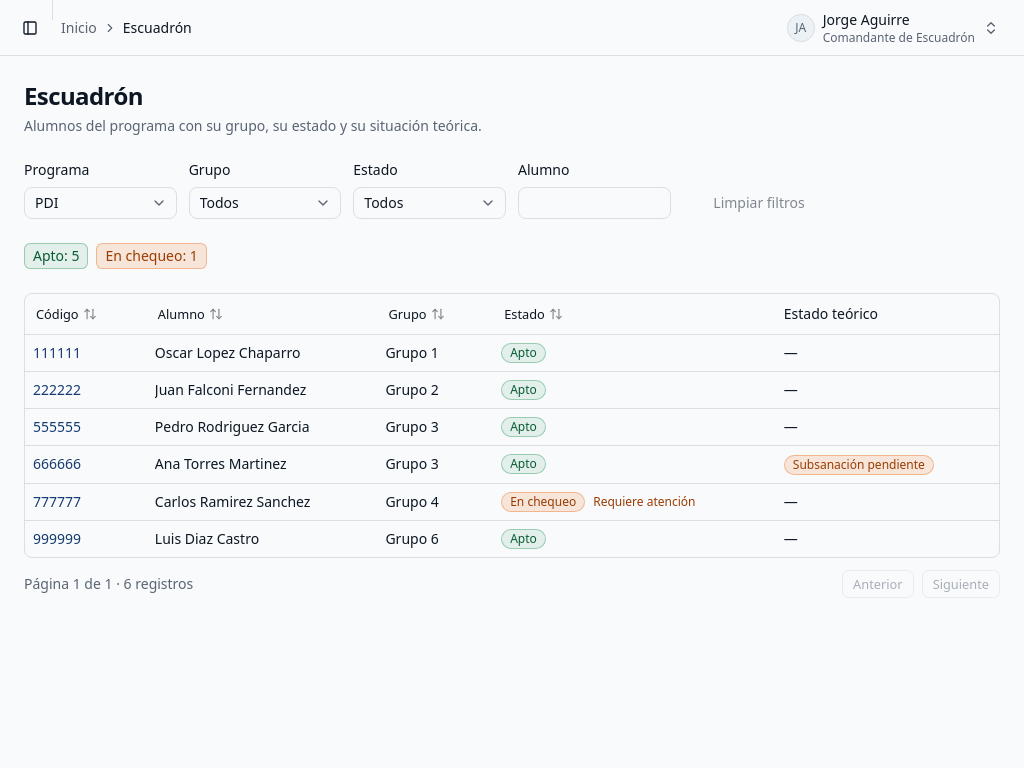
Test: Escuadrón: estado y situación teórica › CA-SEG-06 el encabezado resume cuántos alumnos hay en cada estado de la lista
Expected: the heading "Escuadrón" is shown, [24,79,143,112]
Expected: the table named "Alumnos del escuadrón" is shown, [25,294,999,557]
Select "Grupo 4" in the dropdown labelled "Grupo": (265, 203) [189,187,341,219]
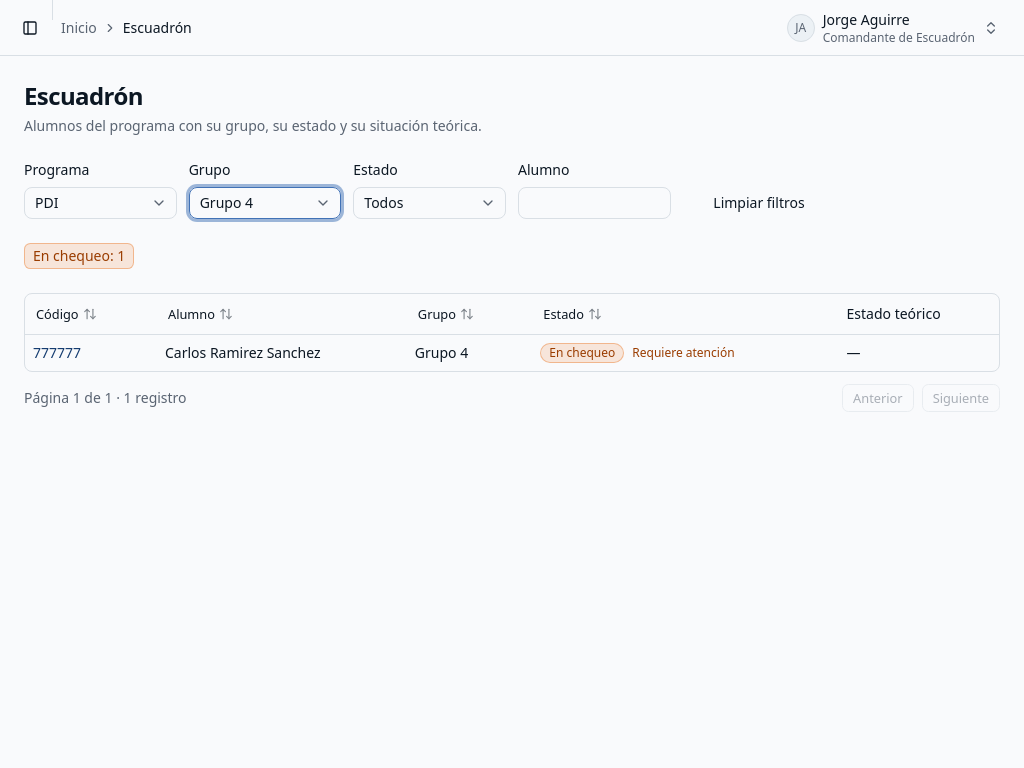
Expected: the text "En chequeo: 1" is shown, [24,243,134,269]
Expected: the text "Apto:" is gone
